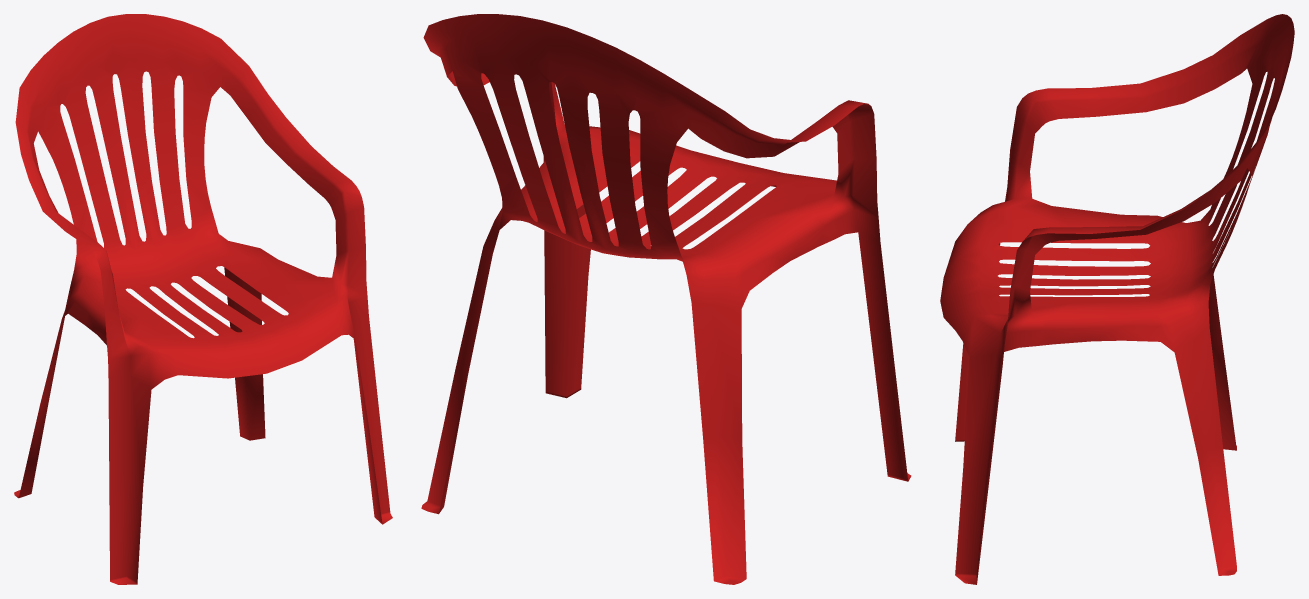
The model's file is seat.glb.
3 views of the same model, side by side, from view 1: azimuth 30°, elevation 25°; view 2: azimuth 150°, elevation 25°; view 3: azimuth 270°, elevation 25° (orthographic). The views are drawn at different scales.
Parts seen in each view (by area): view 1: Plastic_Chair; view 2: Plastic_Chair; view 3: Plastic_Chair.
Boxes of the visible parts, left/top/right/bottom form: Plastic_Chair: left=14, top=14, right=392, bottom=584; Plastic_Chair: left=421, top=14, right=911, bottom=584; Plastic_Chair: left=940, top=14, right=1294, bottom=584.
Size of the model in its own units: 0.6156 by 0.8951 by 0.6038.
